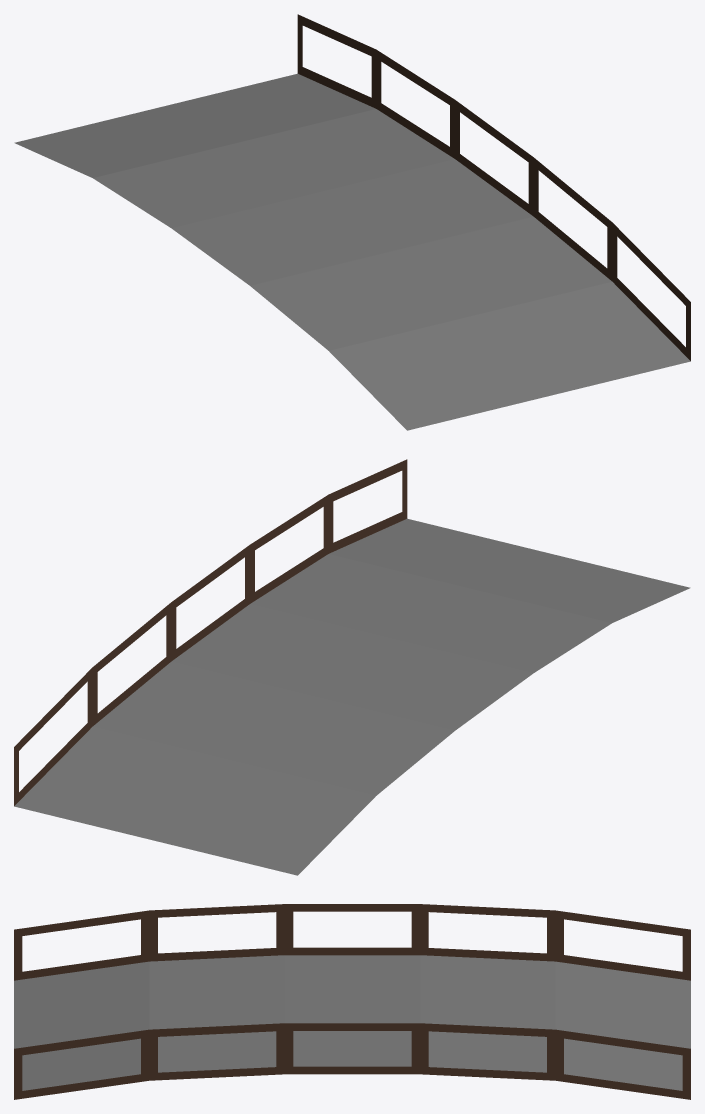
File: bridge.fbx
3 renders of one model, top to bottom at view 1: azimuth 30°, elevation 25°; view 2: azimuth 150°, elevation 25°; view 3: azimuth 270°, elevation 25°, orthographic. The views are drawn at different scales.
Parts seen in each view (by area): view 1: Plane; view 2: Plane; view 3: Plane.
Boxes of the visible parts, left/top/right/bottom form: Plane: left=14, top=14, right=690, bottom=430; Plane: left=14, top=459, right=690, bottom=875; Plane: left=14, top=904, right=690, bottom=1099.
Bounding box in the file's own units: 200 × 60 × 480.
